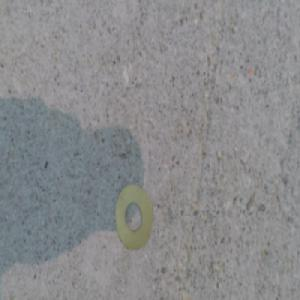Washer: (114, 182, 153, 250)
